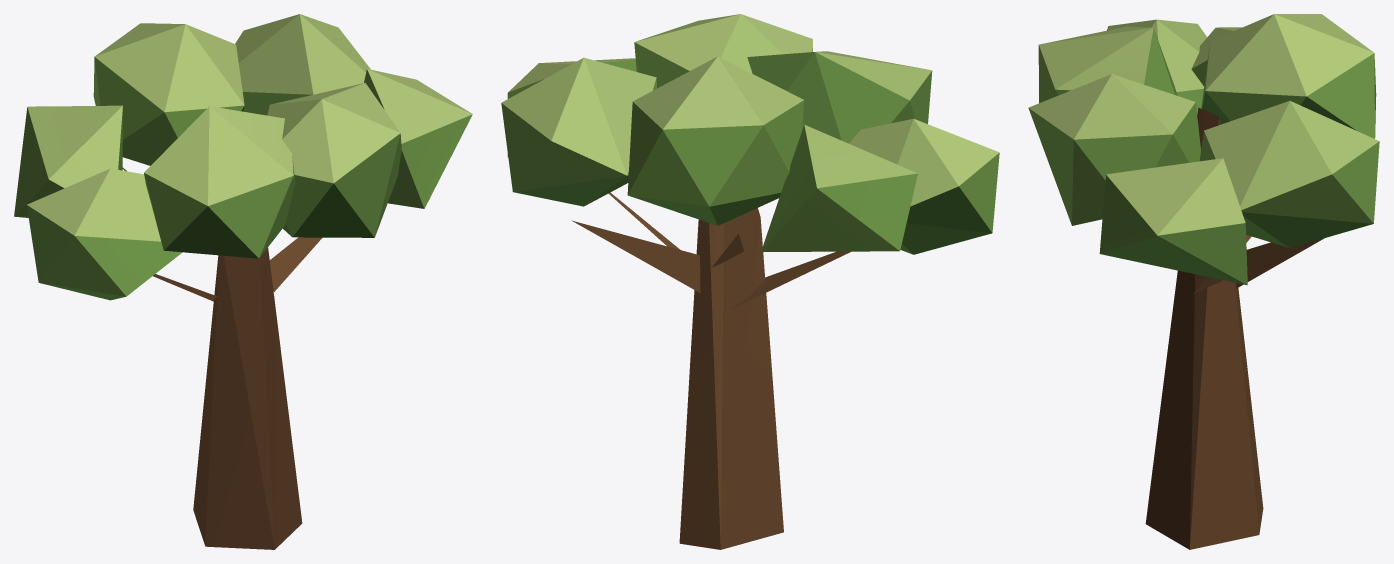
3 renders of one model, left to right at view 1: azimuth 30°, elevation 25°; view 2: azimuth 150°, elevation 25°; view 3: azimuth 270°, elevation 25°, orthographic. The views are drawn at different scales.
Parts seen in each view (by area): view 1: WK_Tree_Maple_MeadowRound_LOD2_Compact; view 2: WK_Tree_Maple_MeadowRound_LOD2_Compact; view 3: WK_Tree_Maple_MeadowRound_LOD2_Compact.
Part boxes in pixels (left/top/right/bottom): WK_Tree_Maple_MeadowRound_LOD2_Compact: left=14, top=14, right=472, bottom=549; WK_Tree_Maple_MeadowRound_LOD2_Compact: left=501, top=14, right=999, bottom=549; WK_Tree_Maple_MeadowRound_LOD2_Compact: left=1028, top=14, right=1379, bottom=549.
Size of the model in its own units: 4.89 by 5.22 by 3.33.
